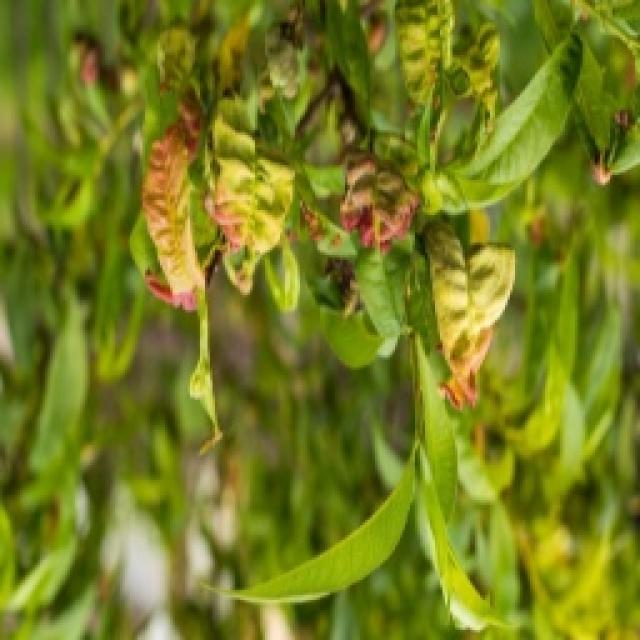peach_leaf_curl: (334, 37, 422, 331), (161, 106, 291, 304), (418, 215, 518, 410)
